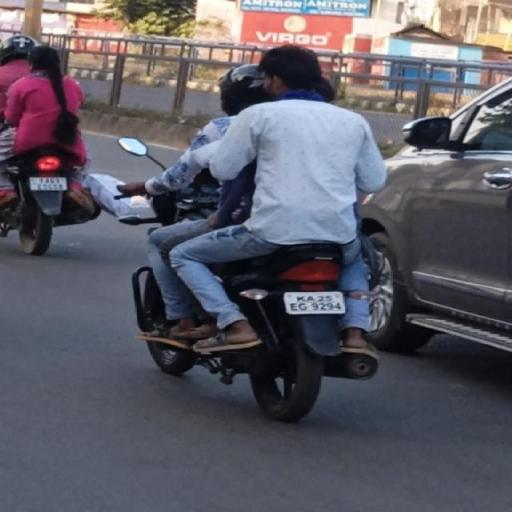tripple riding: (98, 44, 408, 252)
